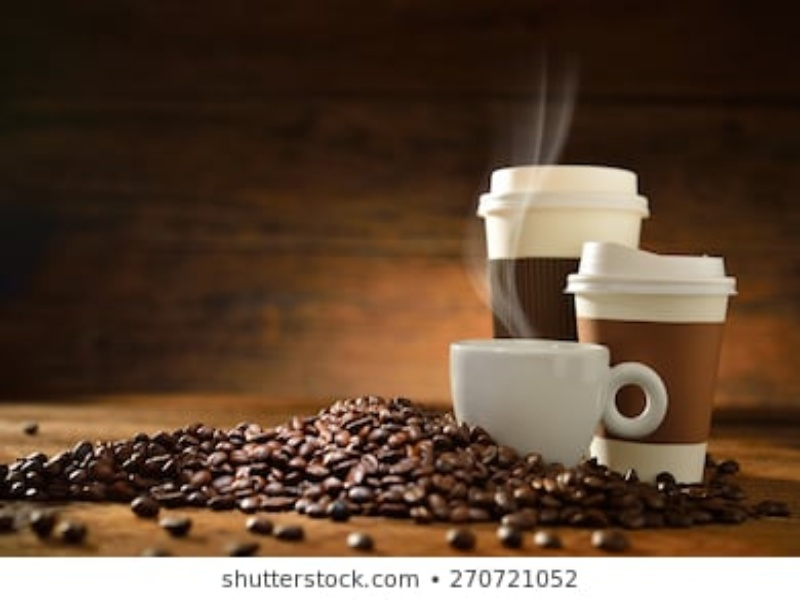coffee-lid: (561, 238, 741, 297), (473, 166, 648, 221)
plastic-cup: (565, 239, 740, 486), (474, 164, 651, 342)
